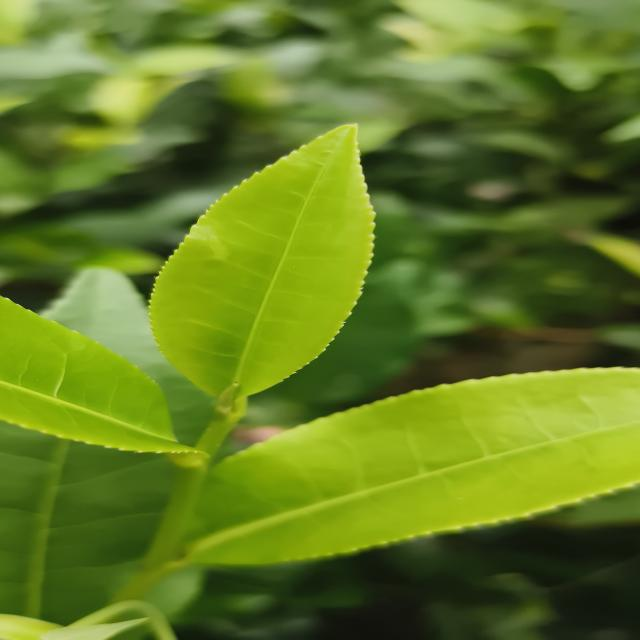Leaf: (188, 368, 640, 564), (150, 125, 373, 397), (0, 423, 174, 625), (41, 268, 212, 444), (0, 298, 194, 453), (271, 272, 418, 405), (131, 45, 238, 76)
